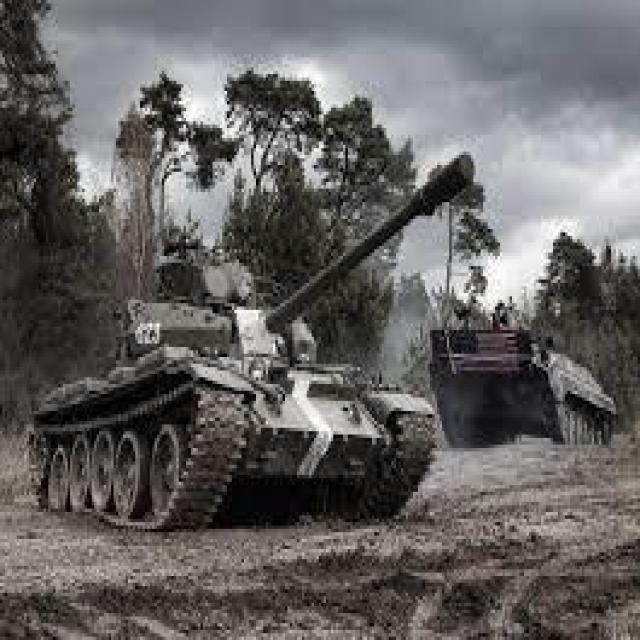MIL_MBT: (31, 148, 437, 556), (380, 224, 619, 497)
